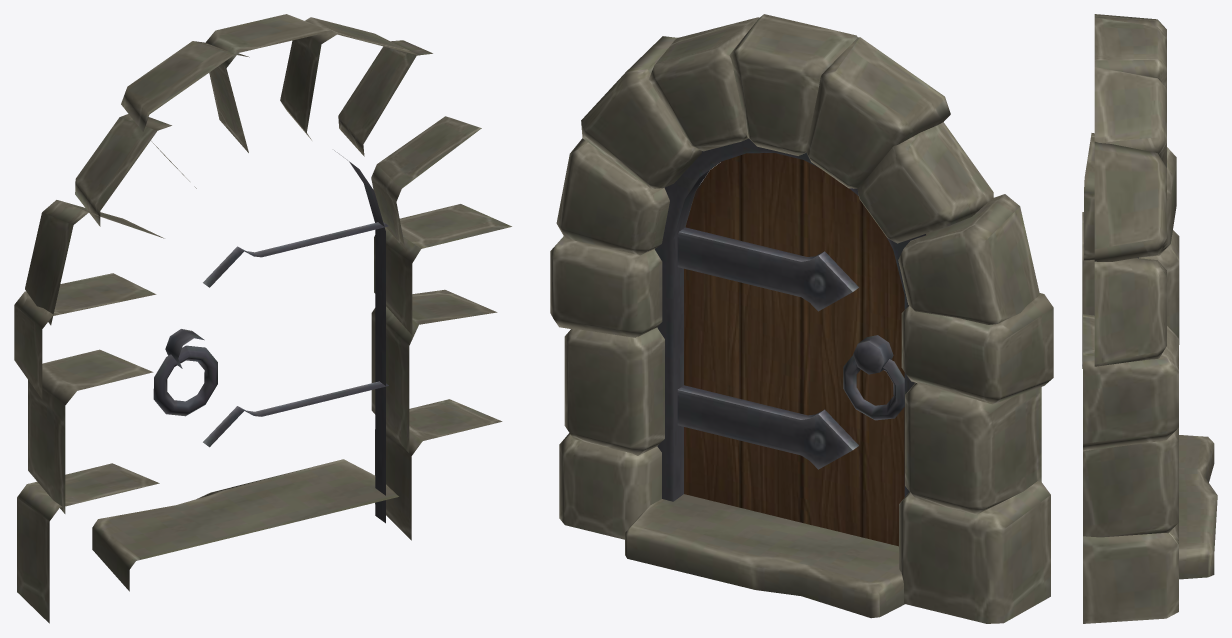
Rendered from porta.glb.
3 renders of one model, left to right at view 1: azimuth 30°, elevation 25°; view 2: azimuth 150°, elevation 25°; view 3: azimuth 270°, elevation 25°, orthographic. The views are drawn at different scales.
Visible parts, largest first — view 1: doorway, door; view 2: doorway, door; view 3: doorway.
Part boxes in pixels (x1,y1,x2,y2): doorway: (14,14,511,623); door: (153,222,388,447); doorway: (550,14,1053,623); door: (677,153,904,546); doorway: (1082,14,1217,623).
Bounding box in the file's own units: 1.67 × 1.76 × 0.4461.
2 materials, 2 textured.
